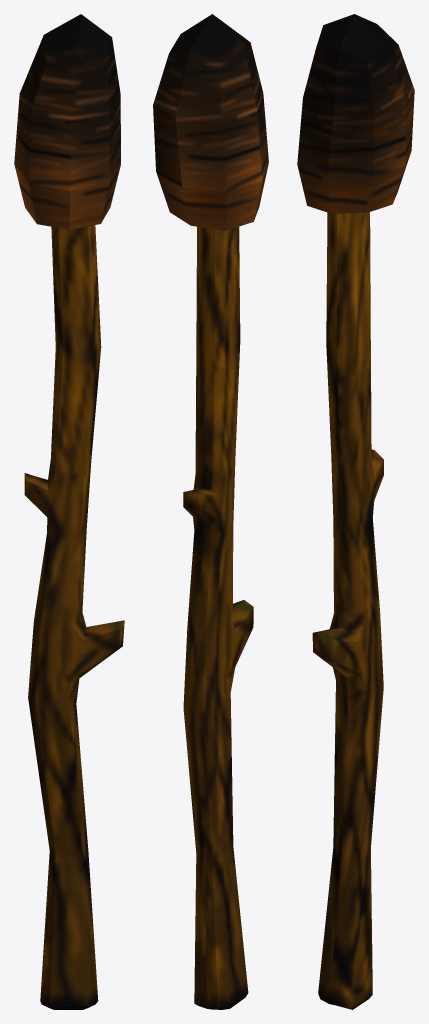
The model's file is Kopie von UnityFackel.fbx.
The picture shows the model from 3 angles, left to right: view 1: azimuth 90°, elevation 25°; view 2: azimuth 150°, elevation 25°; view 3: azimuth 330°, elevation 25°; orthographic projection.
Visible parts, largest first — view 1: StockKleinSubs.023, Cube.001; view 2: StockKleinSubs.023, Cube.001; view 3: StockKleinSubs.023, Cube.001.
Part boxes in pixels (x1,y1,x2,y2): StockKleinSubs.023: (24, 225, 124, 1009); Cube.001: (14, 14, 120, 229); StockKleinSubs.023: (183, 226, 253, 1009); Cube.001: (153, 14, 268, 230); StockKleinSubs.023: (312, 212, 383, 1009); Cube.001: (297, 14, 414, 213).
Size of the model in its own units: 296 by 2754 by 280.
